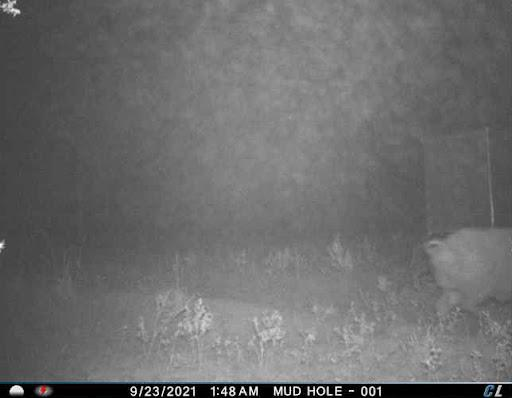Hog: (425, 220, 512, 342)
